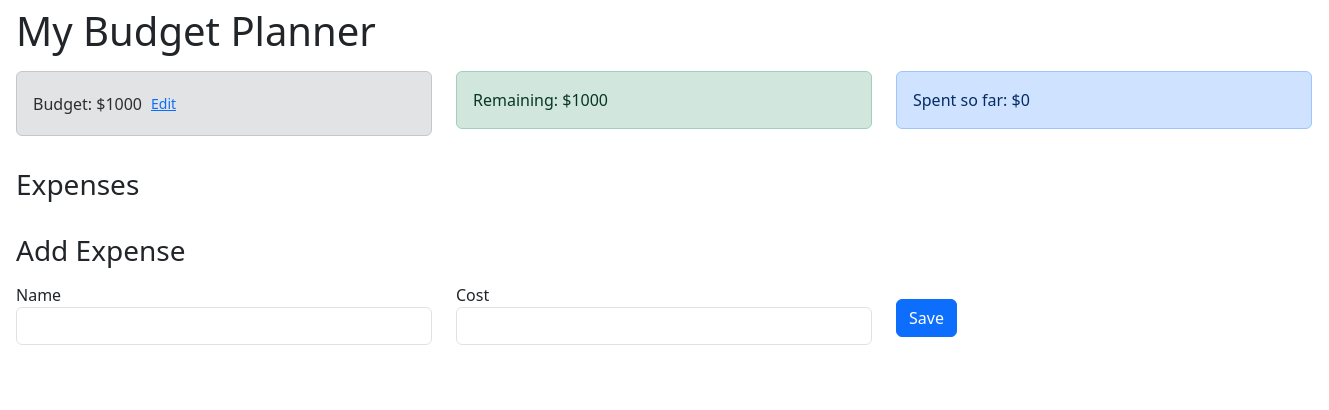
Scenario: Expense Deletion › Expense is removed from the list and totals update
The image size is (1329, 410).
Step 1. Type "Shopping" into the field labelled "Name" → x=224, y=326, box [16, 307, 432, 345]
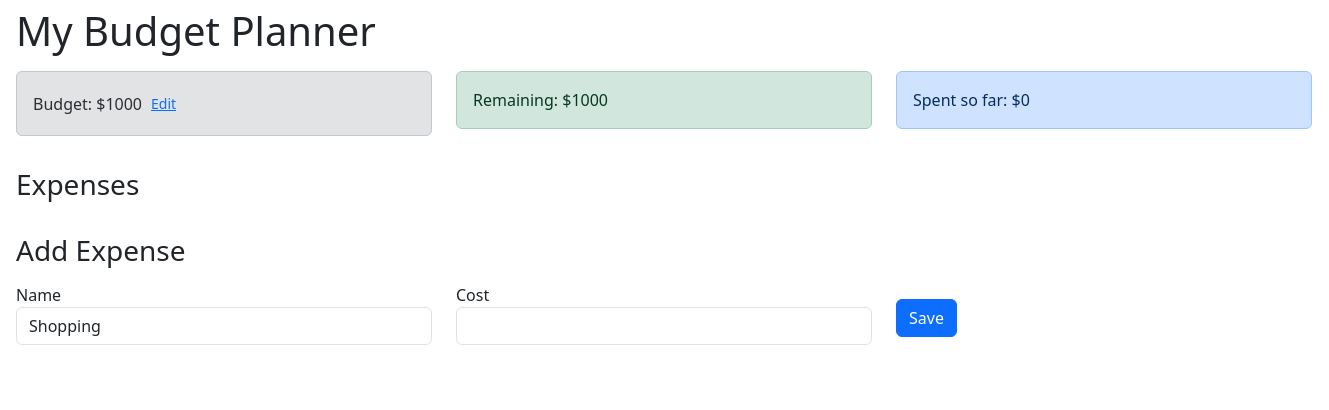
Step 2. Type "100" into the field labelled "Cost" → x=664, y=326, box [456, 307, 872, 345]
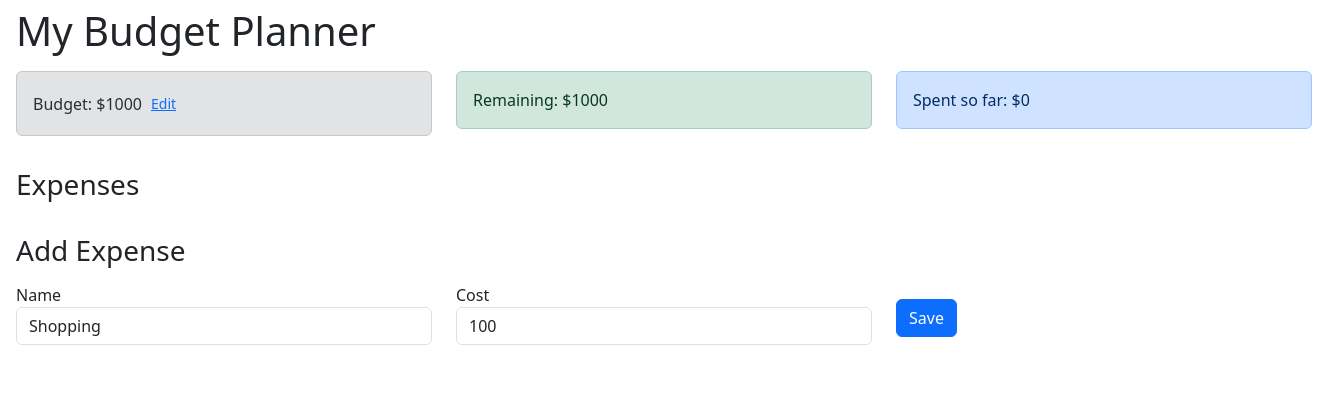
Step 3. Click the button "Save" → x=926, y=318, box [896, 299, 957, 337]
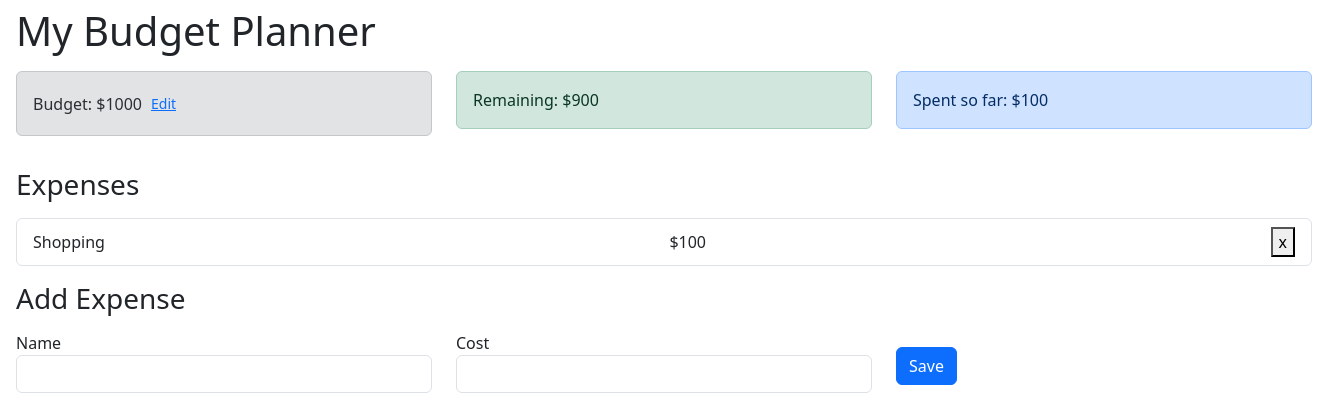
Step 4. Click the button with test id "Shopping-delete" → x=1283, y=242, box [1270, 227, 1295, 257]
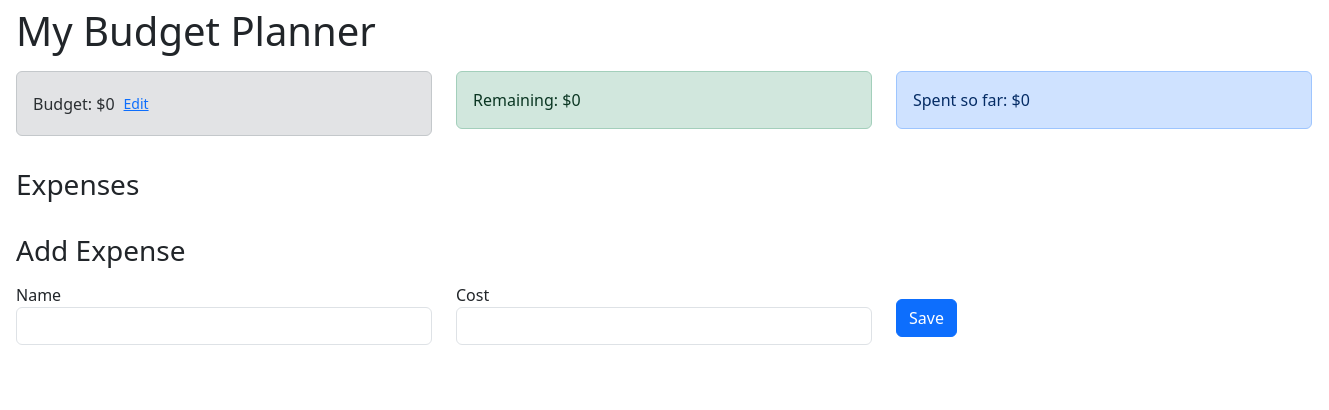
Expected: the text "Remaining: $1000" is shown, [473, 89, 580, 111]
Expected: the text with test id "Shopping" is gone
Expected: the text "Spent so far: $0" is shown, [913, 89, 1030, 111]
